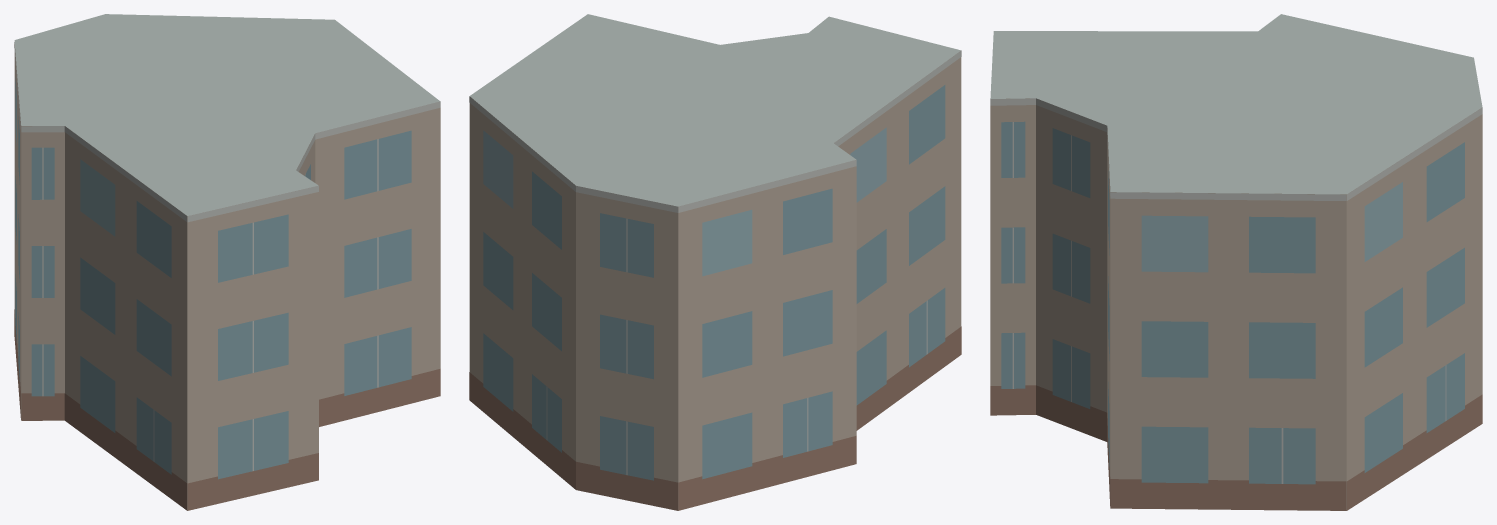
File: survey-upis-32770185.glb
3 renders of one model, left to right at view 1: azimuth 30°, elevation 25°; view 2: azimuth 150°, elevation 25°; view 3: azimuth 270°, elevation 25°, orthographic. The views are drawn at different scales.
Parts seen in each view (by area): view 1: survey-upis-32770185.tmp; view 2: survey-upis-32770185.tmp; view 3: survey-upis-32770185.tmp.
Boxes of the visible parts, x1,y1,x2,y2 form: survey-upis-32770185.tmp: (14,14,440,510); survey-upis-32770185.tmp: (469,14,961,510); survey-upis-32770185.tmp: (990,14,1482,510).
Size of the model in its own units: 14.07 by 11.5 by 16.22.
